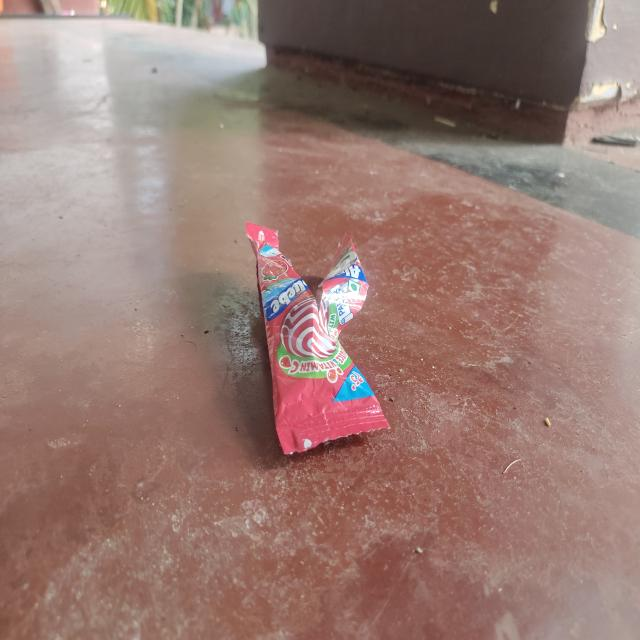plastic: (244, 218, 391, 456)
